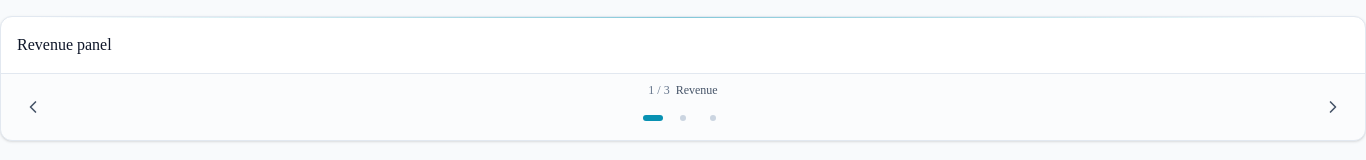
Carousell › navigates with a horizontal swipe
Step 1. Press the mouse on the element with test id "carousell-viewport" → (64, 44), box [17,36,112,52]
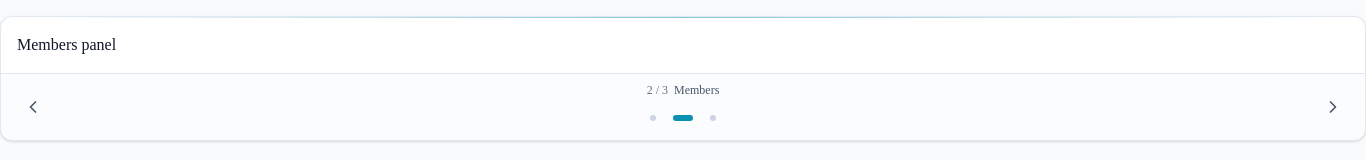
Check: the element named "2 of 3: Members" is shown
Step 2. Press the mouse on the element with test id "carousell-viewport" → (67, 44), box [17,36,116,52]
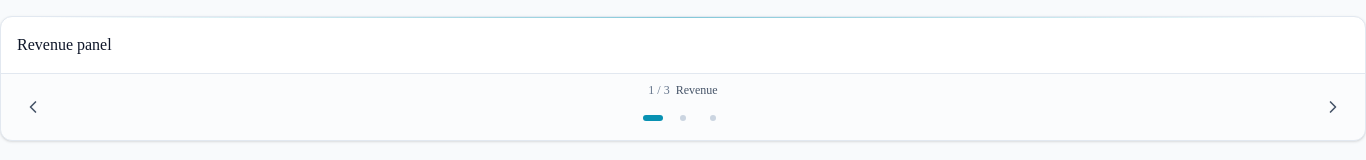
Check: the element named "1 of 3: Revenue" is shown, box [17,36,112,52]
